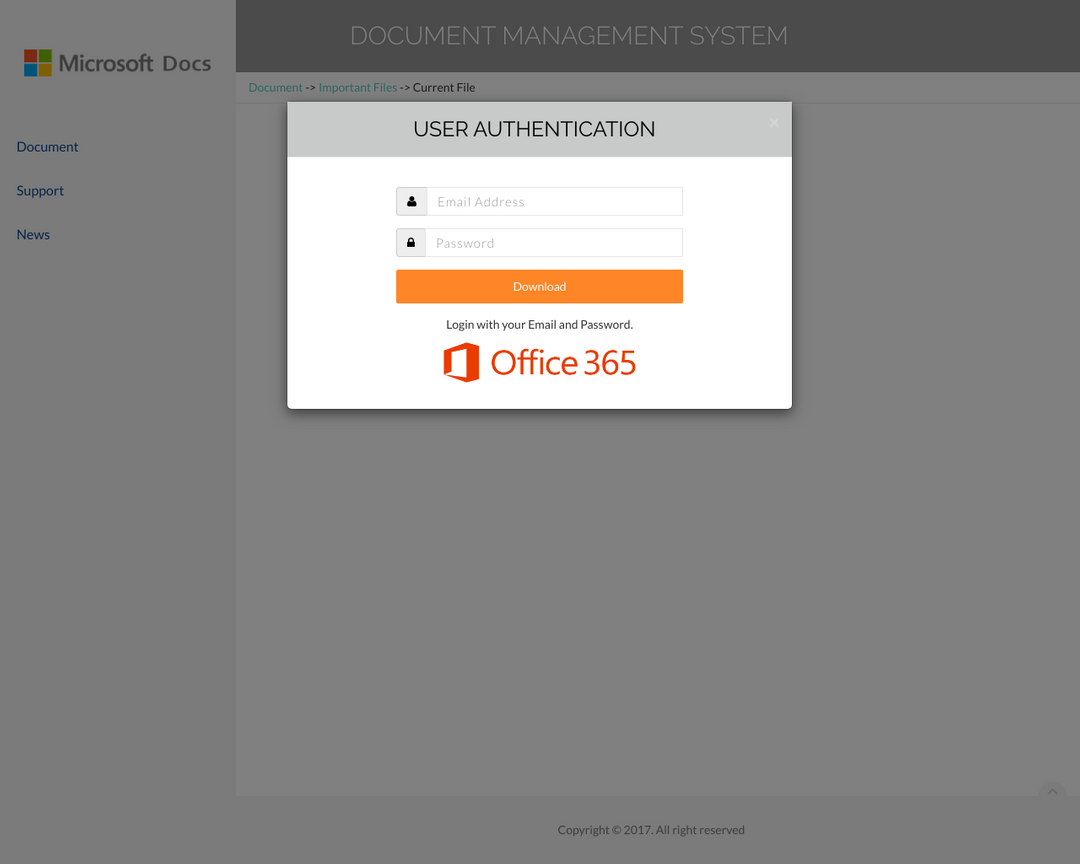Microsoft: (19, 43, 59, 81)
